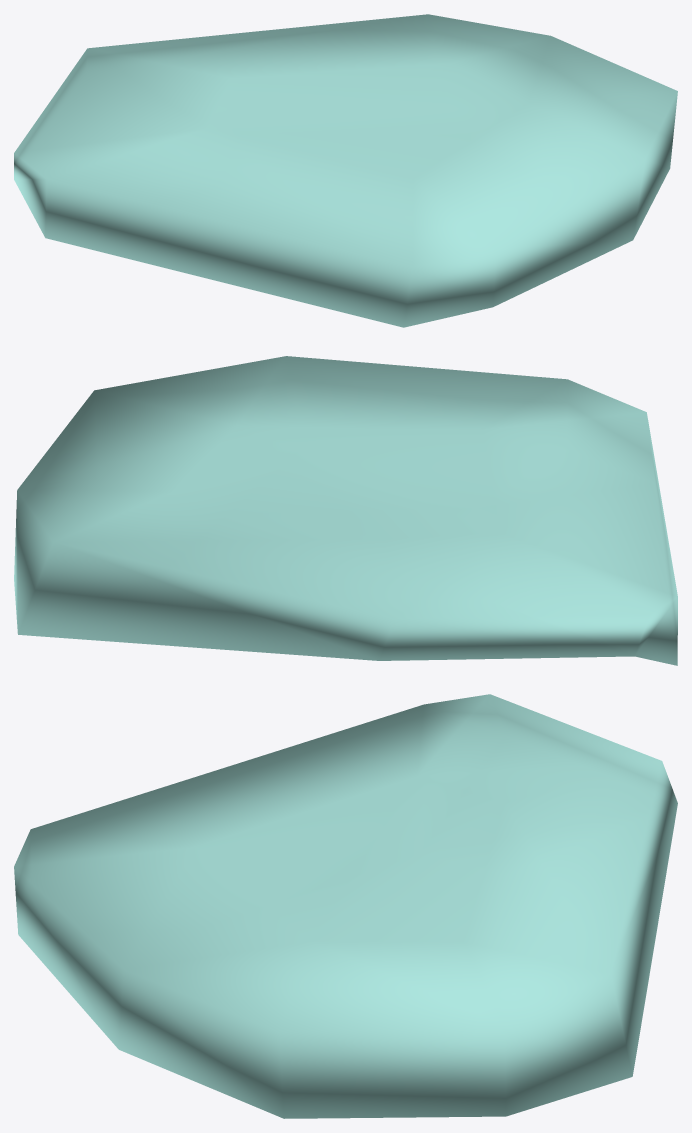
Rendered from tr_seaglass03.fbx.
3 renders of one model, top to bottom at view 1: azimuth 30°, elevation 25°; view 2: azimuth 150°, elevation 25°; view 3: azimuth 270°, elevation 25°, orthographic. The views are drawn at different scales.
Parts seen in each view (by area): view 1: tr_seaglass03; view 2: tr_seaglass03; view 3: tr_seaglass03.
Part boxes in pixels (<box>): tr_seaglass03: <box>14,14,677,327</box>; tr_seaglass03: <box>14,356,677,665</box>; tr_seaglass03: <box>14,694,677,1118</box>.
Size of the model in its own units: 5.72 by 1.08 by 4.94.
